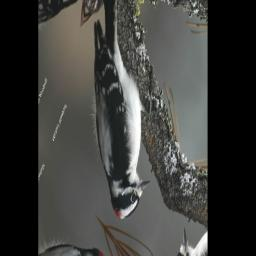Woodpecker: (49, 0, 187, 235)
